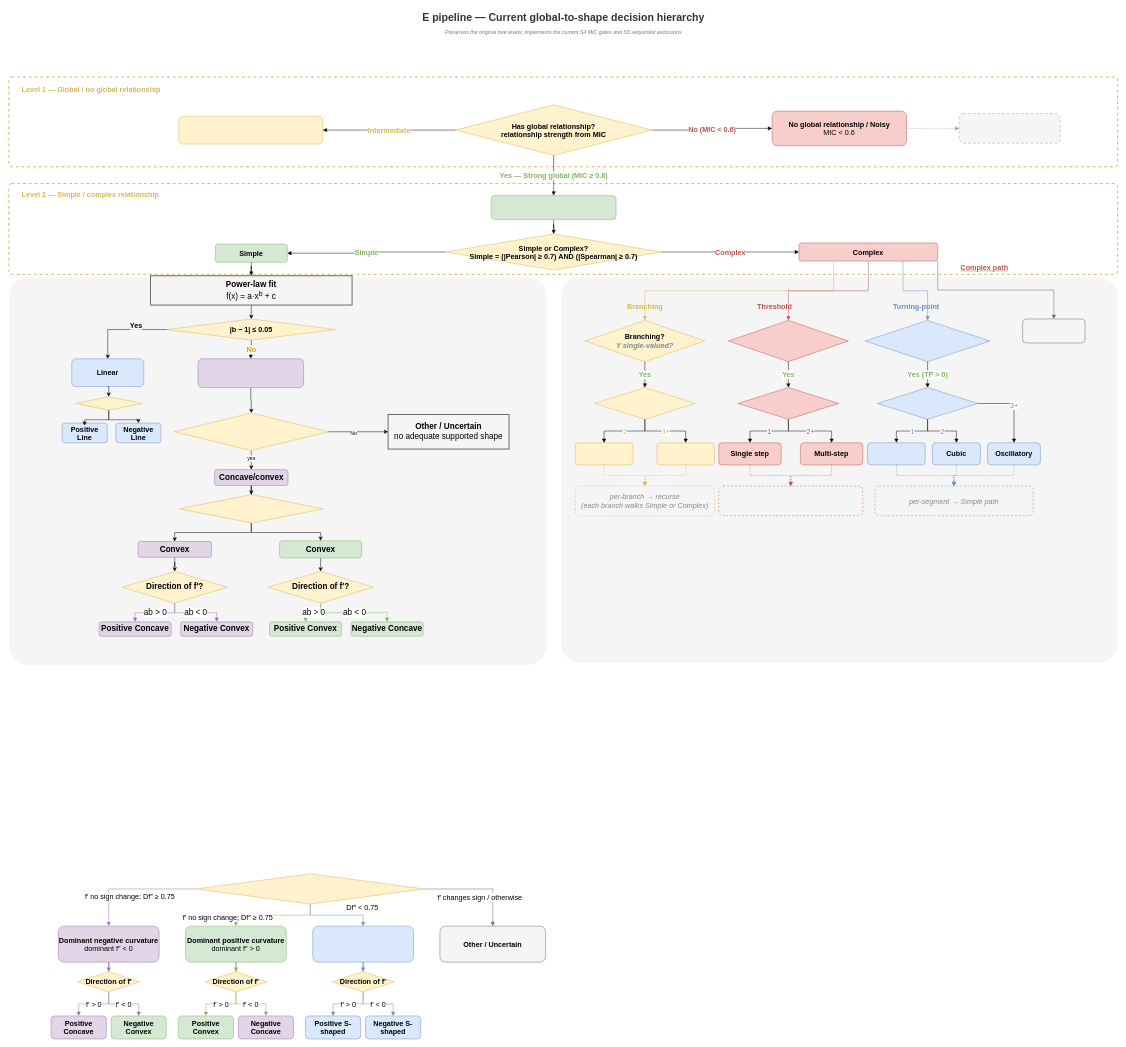
Some shapes in this 1126 by 1047 pixel diagram are drawn without their labels. The shapes that lost their labels are listed below. From the top down, each one's centre as x and y in pixels, then its label:
At point (250, 130): "Intermediate global relationship 0.6 ≤ MIC < 0.8".
At point (1009, 128): "→ Check local relationship deferred — can do later".
At point (553, 207): "Strong global relationship".
At point (788, 341): "Threshold? Discontinuity?".
At point (927, 341): "Has TP? Direction changes?".
At point (1053, 330): "Uncertain".
At point (251, 373): "Preliminary concave/convex pool".
At point (108, 403): "Direction".
At point (644, 403): "# branches?".
At point (788, 403): "# steps?".
At point (927, 403): "TP count?".
At point (251, 431): "Adequate power-law fit? R² power ≥ τ power".
At point (604, 453): "2-way".
At point (685, 453): "n-way".
At point (896, 453): "U / Inv-U / Spike".
At point (251, 508): "Curvature sign? a·b·(b − 1)".
At point (790, 501): "per-segment → recurse step location + step size".
At point (310, 888): "Cubic polynomial fit Fit f(x) = a₃x³ + a₂x² + a₁x + a₀".
At point (363, 944): "S-shaped f′ no sign change; one f″ sign change".
